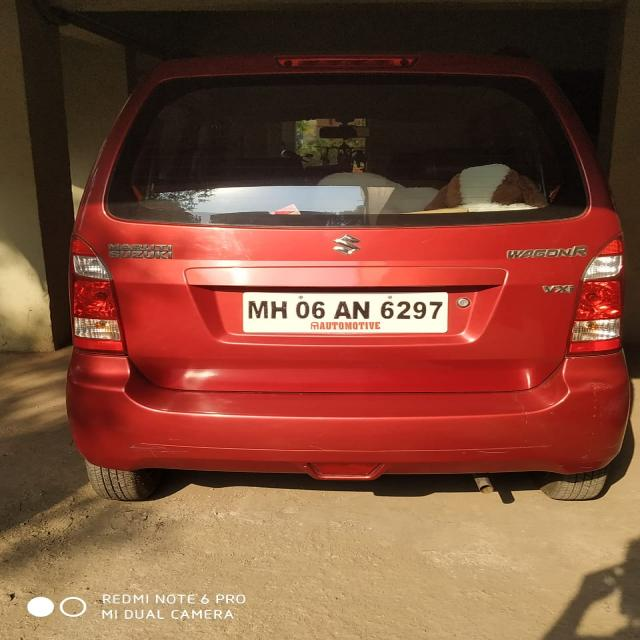Number-Plate: (245, 293, 449, 325)
